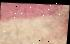plaque psoriasis: (0, 0, 64, 24), (62, 11, 70, 35)
